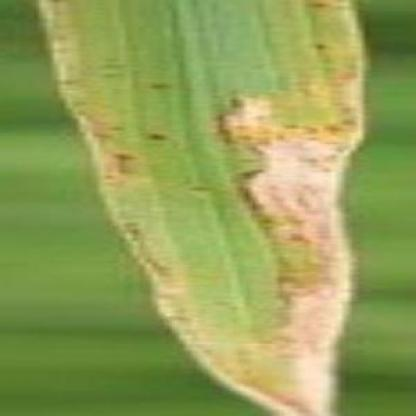Blight: (212, 88, 360, 416)
